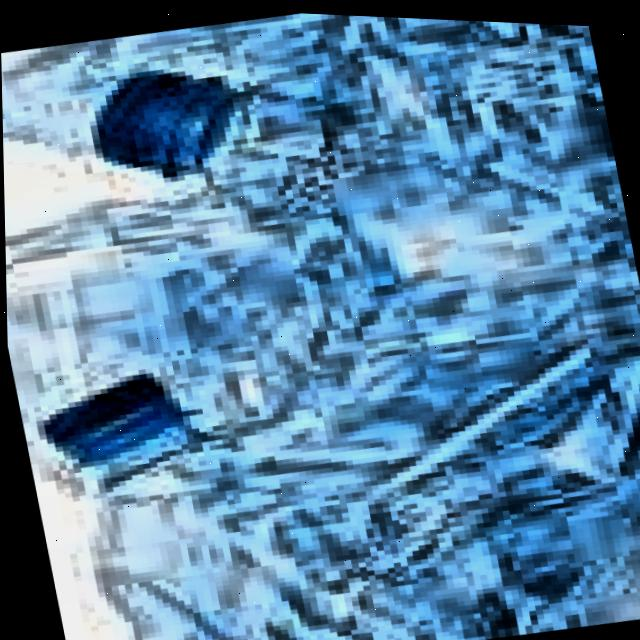plastic: (58, 2, 636, 359), (10, 291, 571, 640), (2, 132, 401, 495), (0, 0, 568, 226)
